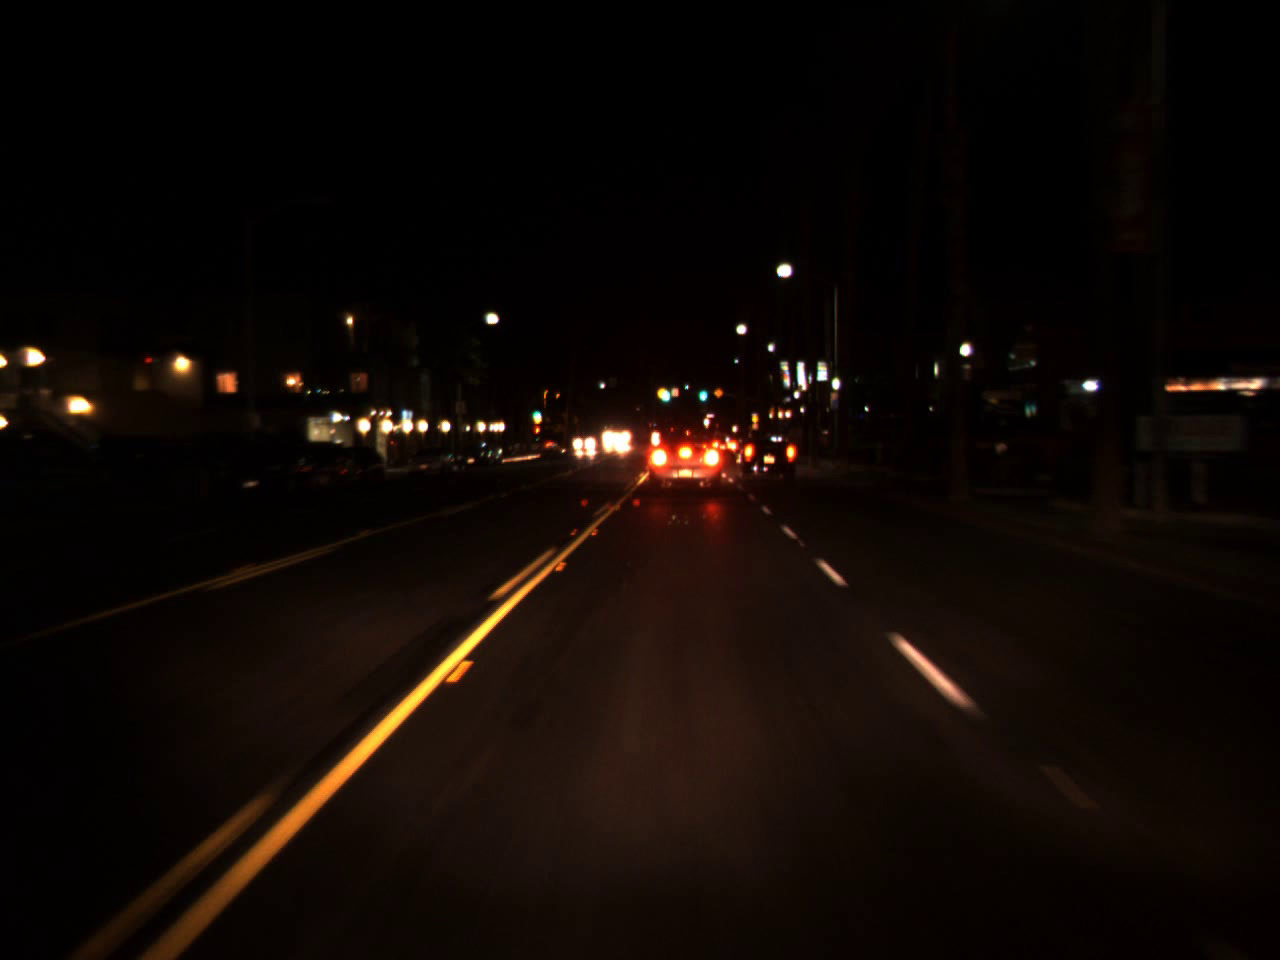go: (696, 378, 708, 405), (658, 380, 670, 404), (531, 406, 541, 418)
